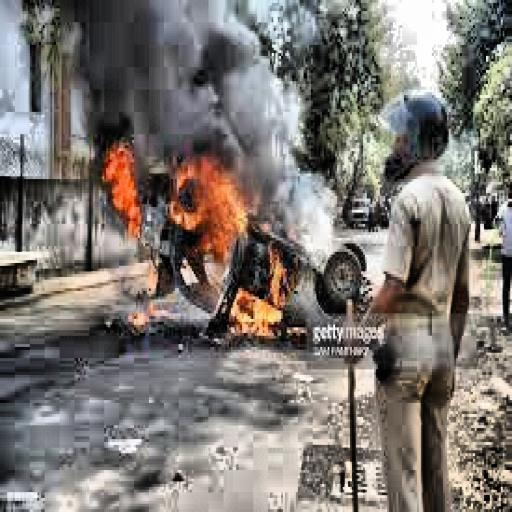fire: (99, 129, 307, 344)
